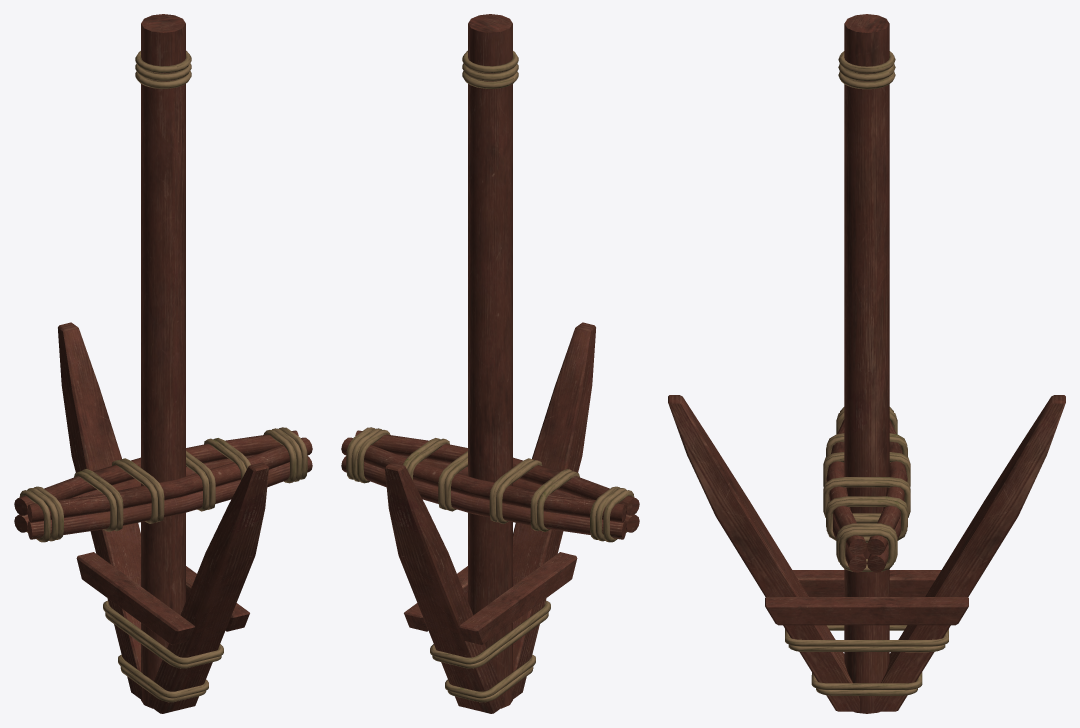
The model's file is SM_Anchor.fbx.
The picture shows the model from 3 angles, left to right: view 1: azimuth 30°, elevation 25°; view 2: azimuth 150°, elevation 25°; view 3: azimuth 270°, elevation 25°; orthographic projection.
Parts seen in each view (by area): view 1: SM_Anchor; view 2: SM_Anchor; view 3: SM_Anchor.
Part boxes in pixels (x1,y1,x2,y2): SM_Anchor: (14, 14, 312, 713); SM_Anchor: (341, 14, 639, 713); SM_Anchor: (668, 14, 1065, 713).
Size of the model in its own units: 86.71 by 200 by 106.
